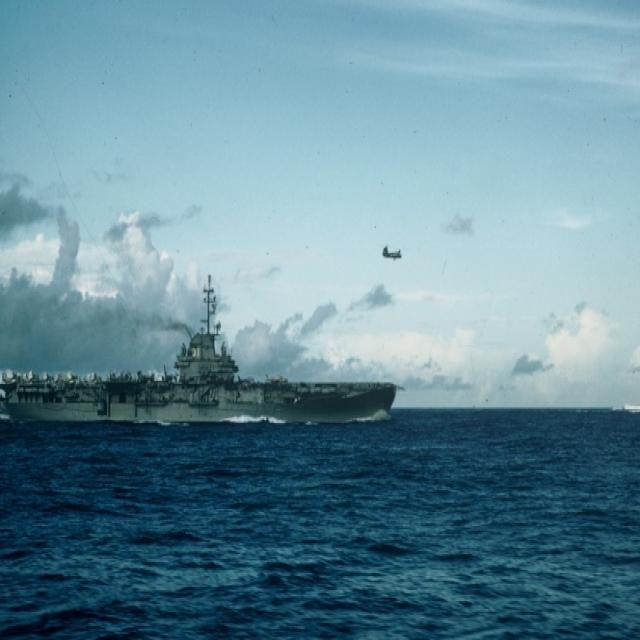Portanaves: (1, 265, 406, 438)
